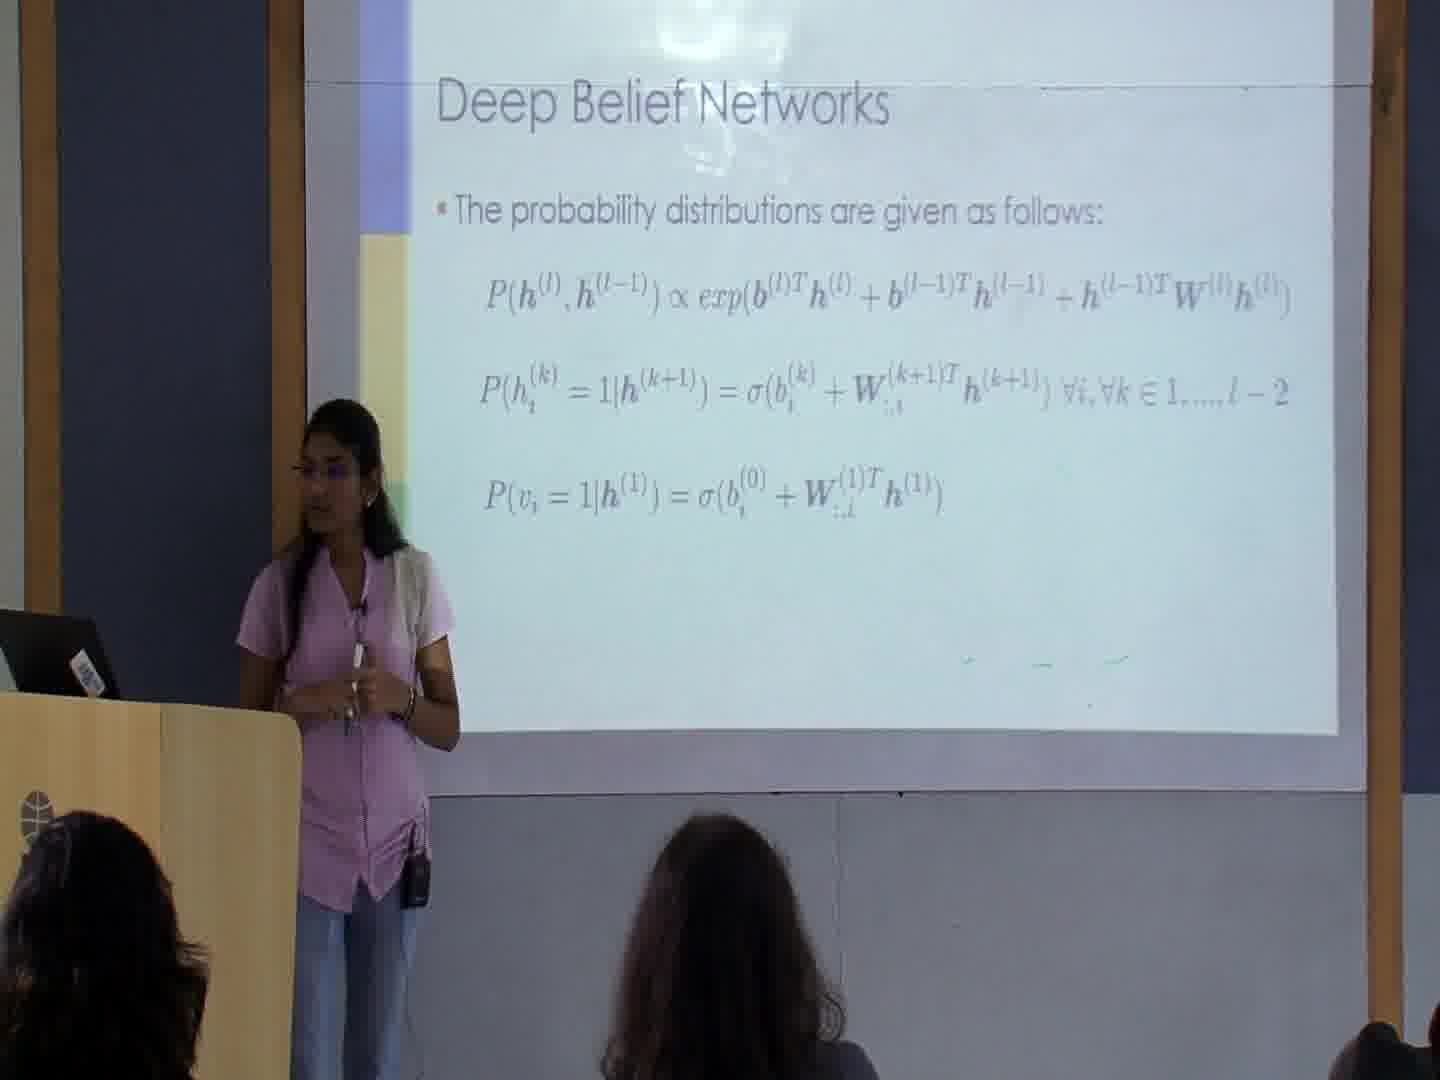eq: (477, 356, 1293, 427), (485, 265, 1293, 319), (480, 461, 952, 529)
